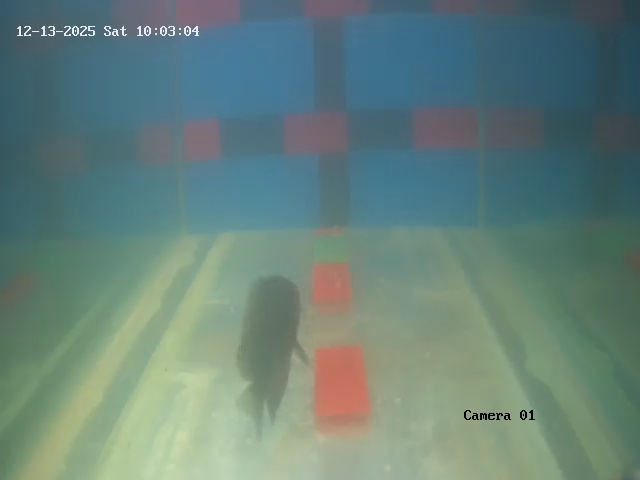fish: (235, 275, 304, 401)
